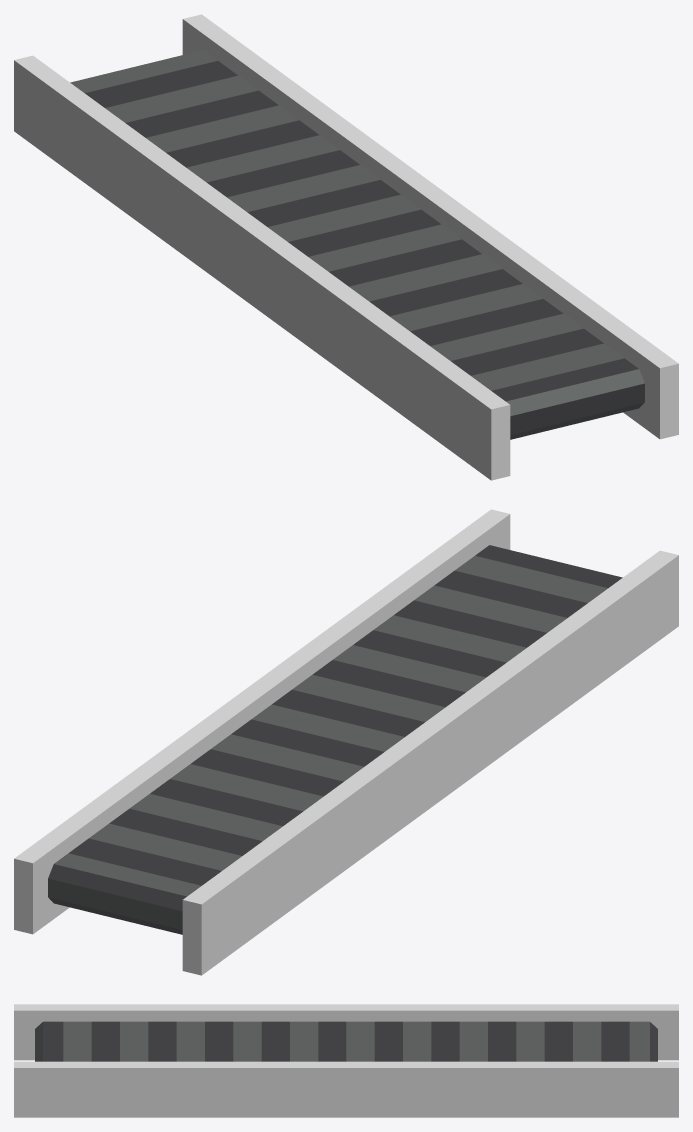
File: TestRoad.fbx
3 renders of one model, top to bottom at view 1: azimuth 30°, elevation 25°; view 2: azimuth 150°, elevation 25°; view 3: azimuth 270°, elevation 25°, orthographic. The views are drawn at different scales.
Visible parts, largest first — view 1: Cube.002, Cube.003, Cube.004; view 2: Cube.002, Cube.003, Cube.004; view 3: Cube.004, Cube.002, Cube.003.
Part boxes in pixels (x1,y1,x2,y2): Cube.002: [70, 50, 644, 439]; Cube.003: [14, 55, 510, 480]; Cube.004: [182, 14, 678, 439]; Cube.002: [48, 545, 622, 934]; Cube.003: [182, 550, 678, 975]; Cube.004: [14, 509, 510, 934]; Cube.004: [14, 1061, 678, 1117]; Cube.002: [35, 1021, 657, 1061]; Cube.003: [14, 1004, 678, 1060].
Size of the model in its own units: 291 by 105 by 1281.
